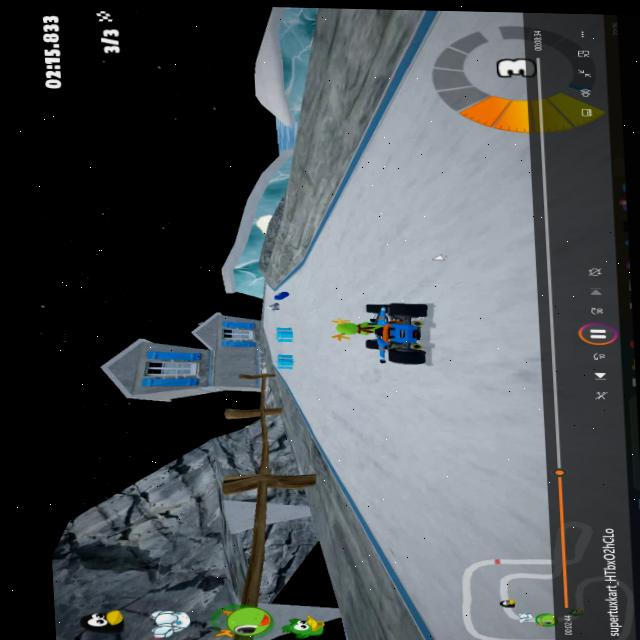bonus: (272, 352, 300, 371), (272, 324, 295, 345)
enemy_kart: (264, 301, 281, 309)
nitro: (274, 288, 290, 300)
player_kart: (332, 297, 431, 363)
